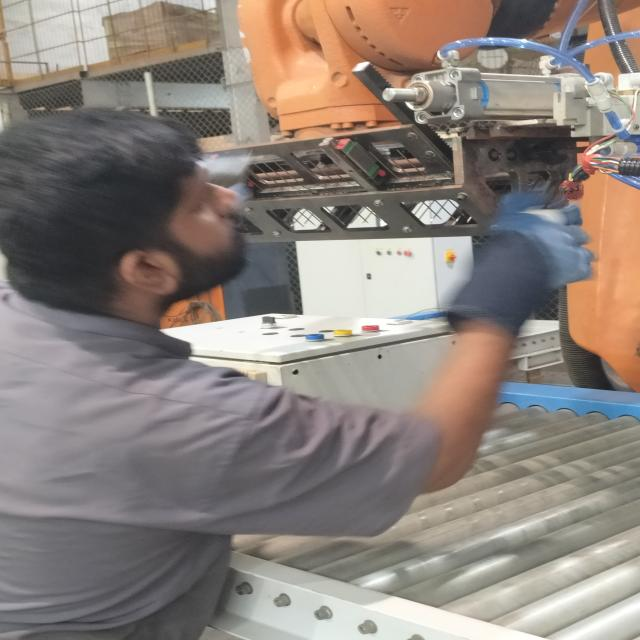Gloves-Detection: (437, 185, 599, 332)
